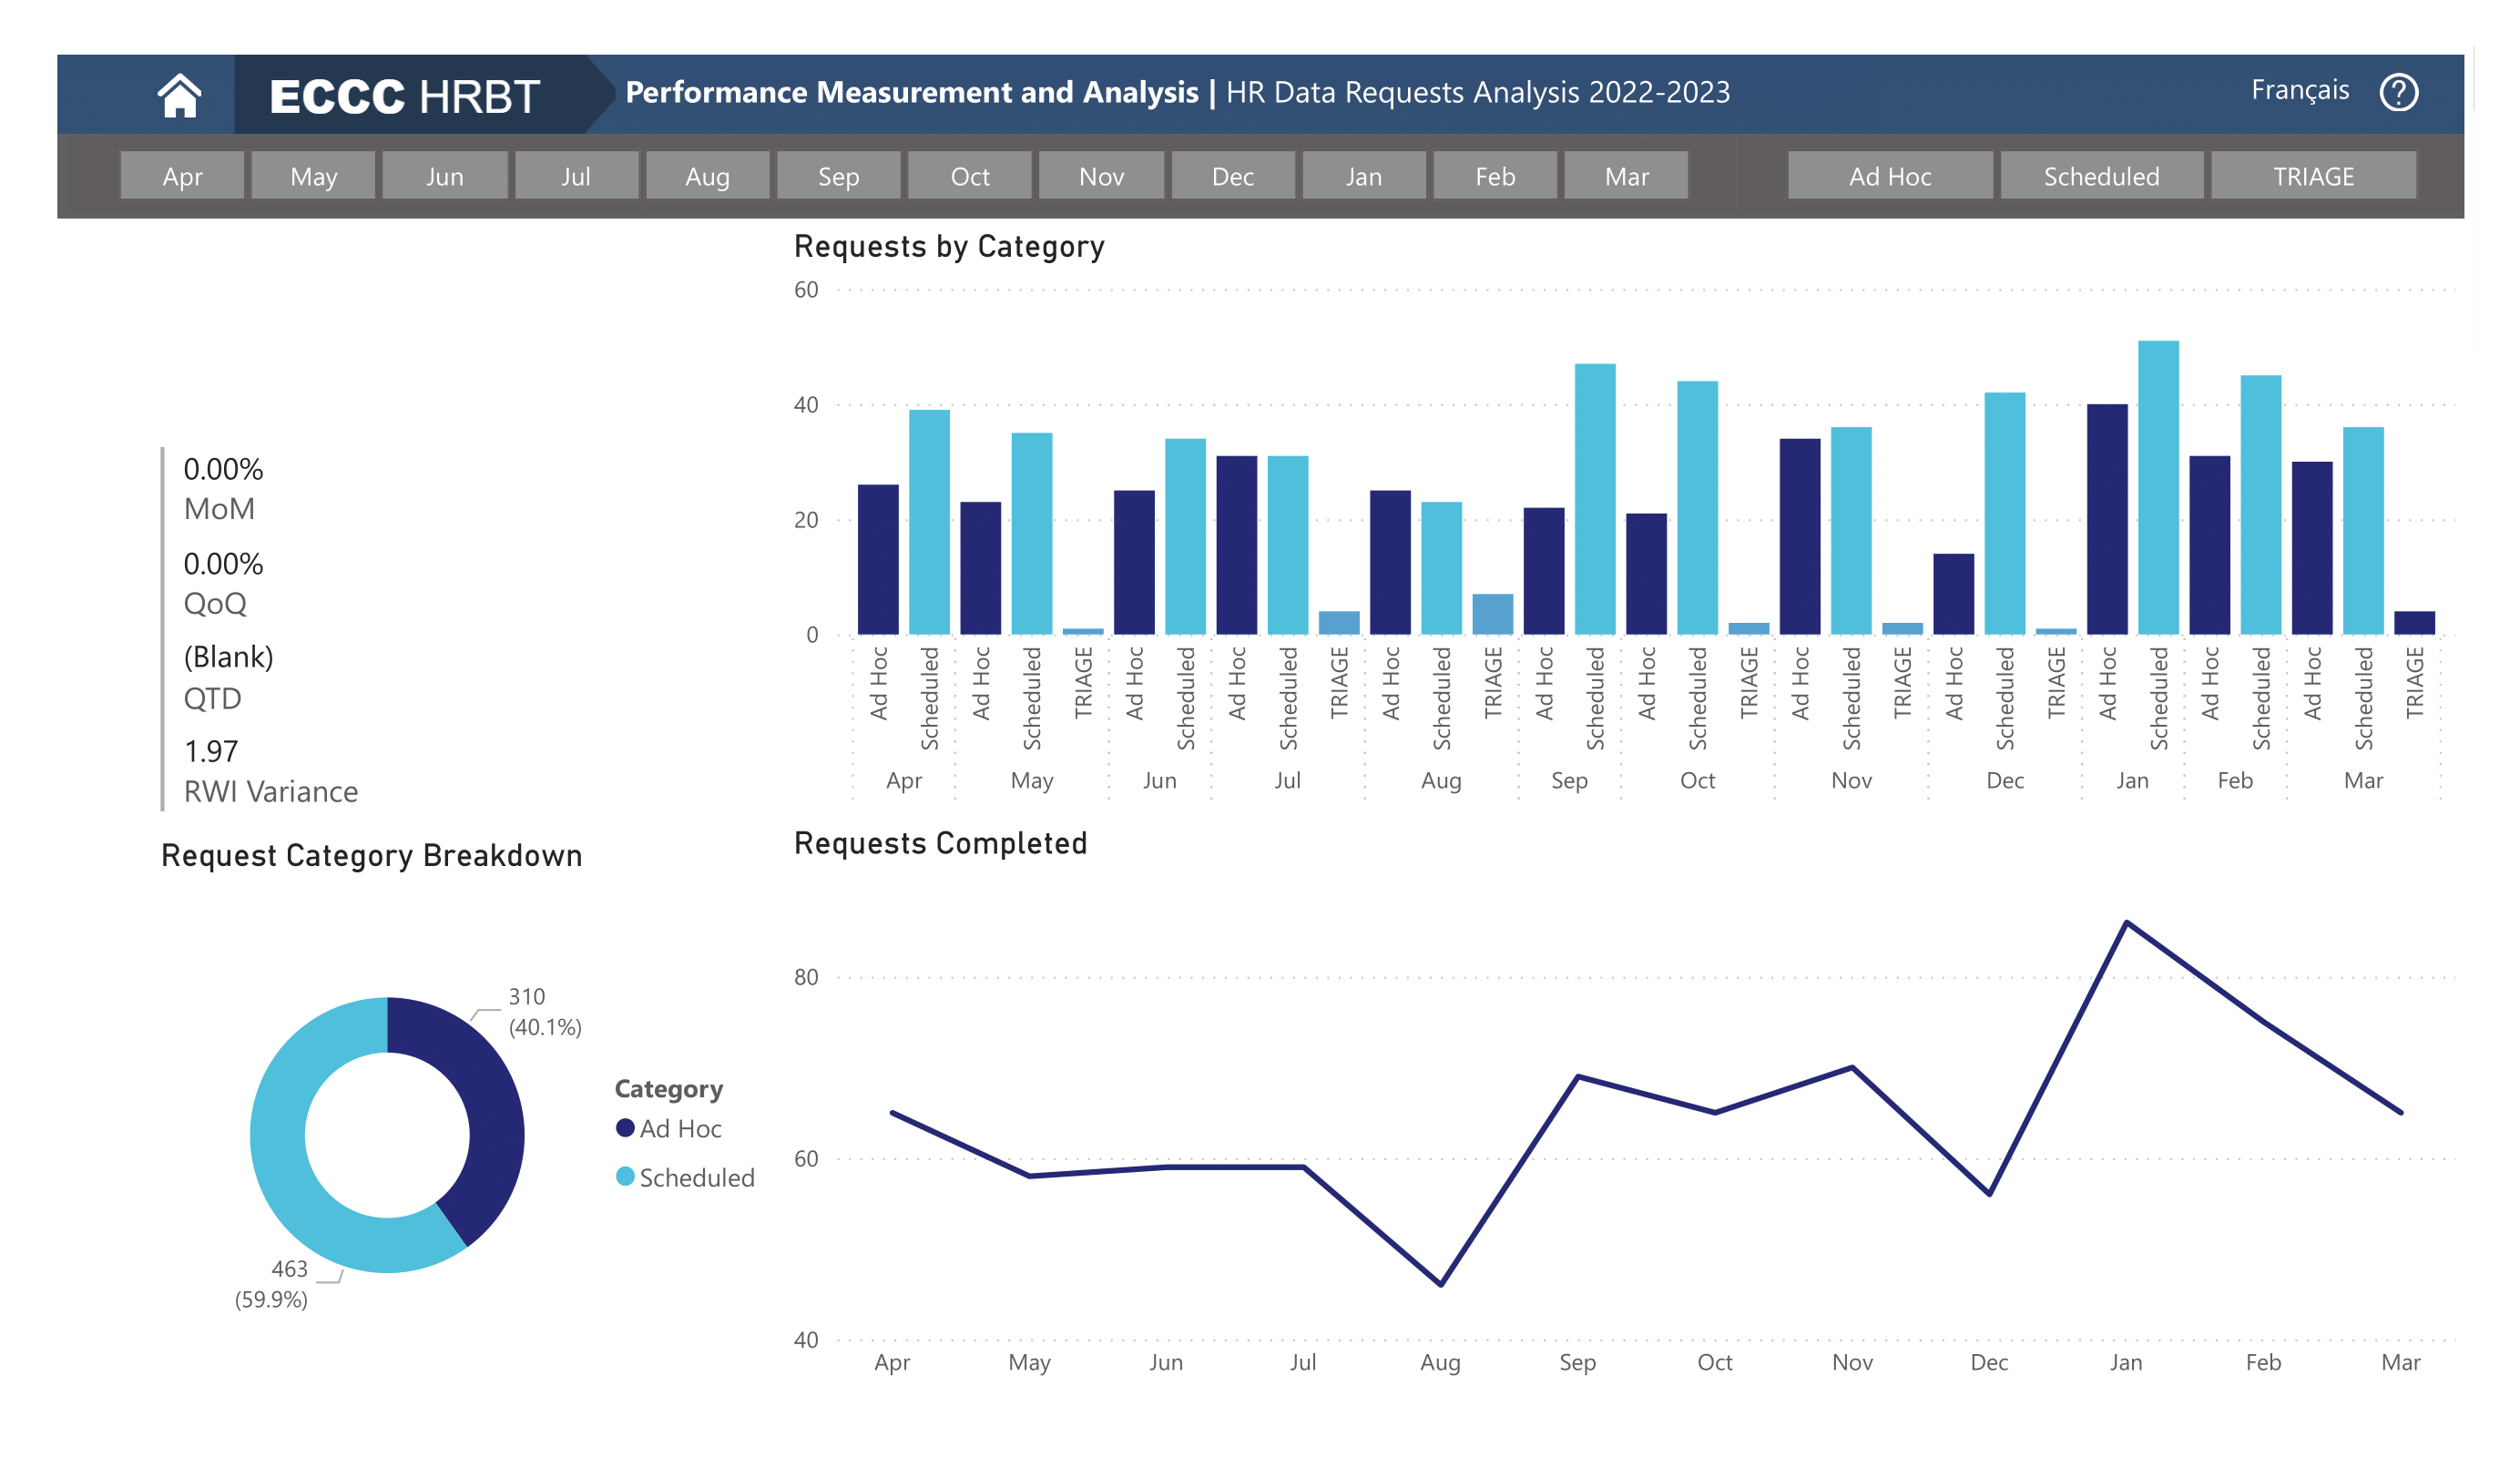

Layout of this report page (visuals, bound fields, positions):
{"tool":"powerbi","page":{"name":"Request Type Volume","canvas":[1280,720],"ordinal":3},"visuals":[{"type":"image","box":[0.9,0,1278.3,96],"z":0},{"type":"image","box":[54.6,8.8,32.6,32.6],"z":1000},{"type":"actionButton","box":[1159.4,3.1,66.2,38.1],"z":2000},{"type":"image","box":[1225.7,8.8,30,30],"z":3000},{"type":"slicer","fields":{"Values":["MonthOrder.MonthOrderDesc"]},"box":[12.6,47.6,878.4,39.8],"z":4000},{"type":"slicer","fields":{"Values":["HR_DATA_REQUEST_REPORT.INC_CAT_N"]},"box":[891,47.6,382.8,39.8],"z":5000},{"type":"donutChart","title":"Request Category Breakdown","fields":{"Category":["HR_DATA_REQUEST_REPORT.INC_CAT_N"],"Y":["CountNonNull(HR_DATA_REQUEST_REPORT.INCIDENT_REF)"]},"box":[55,415.8,333.3,296.7],"z":6000},{"type":"lineChart","title":"Requests Completed","fields":{"Category":["MonthOrder.MonthOrderDesc"],"Y":["CountNonNull(HR_DATA_REQUEST_REPORT.RESOLVED_DATE)"]},"box":[388.9,410,885.6,302.2],"z":7000},{"type":"multiRowCard","fields":{"Values":["HR_DATA_REQUEST_REPORT.Count of INCIDENT_REF MoM%","HR_DATA_REQUEST_REPORT.Count of INCIDENT_REF QoQ%","HR_DATA_REQUEST_REPORT.Count of INCIDENT_REF QTD","HR_DATA_REQUEST_REPORT.Requests Weighted Index Variance"]},"box":[55,206.2,176.2,208.8],"z":8000},{"type":"lineClusteredColumnComboChart","title":"Requests by Category","fields":{"Category":["MonthOrder.MonthOrderDesc","HR_DATA_REQUEST_REPORT.INC_CAT_N"],"Y":["CountNonNull(HR_DATA_REQUEST_REPORT.INCIDENT_REF)"]},"box":[388.9,95.6,885.6,314.4],"z":9000},{"type":"textbox","box":[300,8,666,33],"z":10000}]}

Visuals, with their boxes on the page's 1280x720 design canvas (x1, y1, x2, y2). These are canvas units, not pixel positions in the 2520x1457 screenshot, which may show the page scaled, cropped or inside an application window:
image: bbox(1, 0, 1279, 96)
image: bbox(55, 9, 87, 41)
actionButton: bbox(1159, 3, 1226, 41)
image: bbox(1226, 9, 1256, 39)
slicer - MonthOrder.MonthOrderDesc: bbox(13, 48, 891, 87)
slicer - HR_DATA_REQUEST_REPORT.INC_CAT_N: bbox(891, 48, 1274, 87)
"Request Category Breakdown" donutChart: bbox(55, 416, 388, 712)
"Requests Completed" lineChart: bbox(389, 410, 1274, 712)
multiRowCard - HR_DATA_REQUEST_REPORT.Count of INCIDENT_REF MoM% x HR_DATA_REQUEST_REPORT.Count of INCIDENT_REF QoQ%: bbox(55, 206, 231, 415)
"Requests by Category" lineClusteredColumnComboChart: bbox(389, 96, 1274, 410)
textbox: bbox(300, 8, 966, 41)
